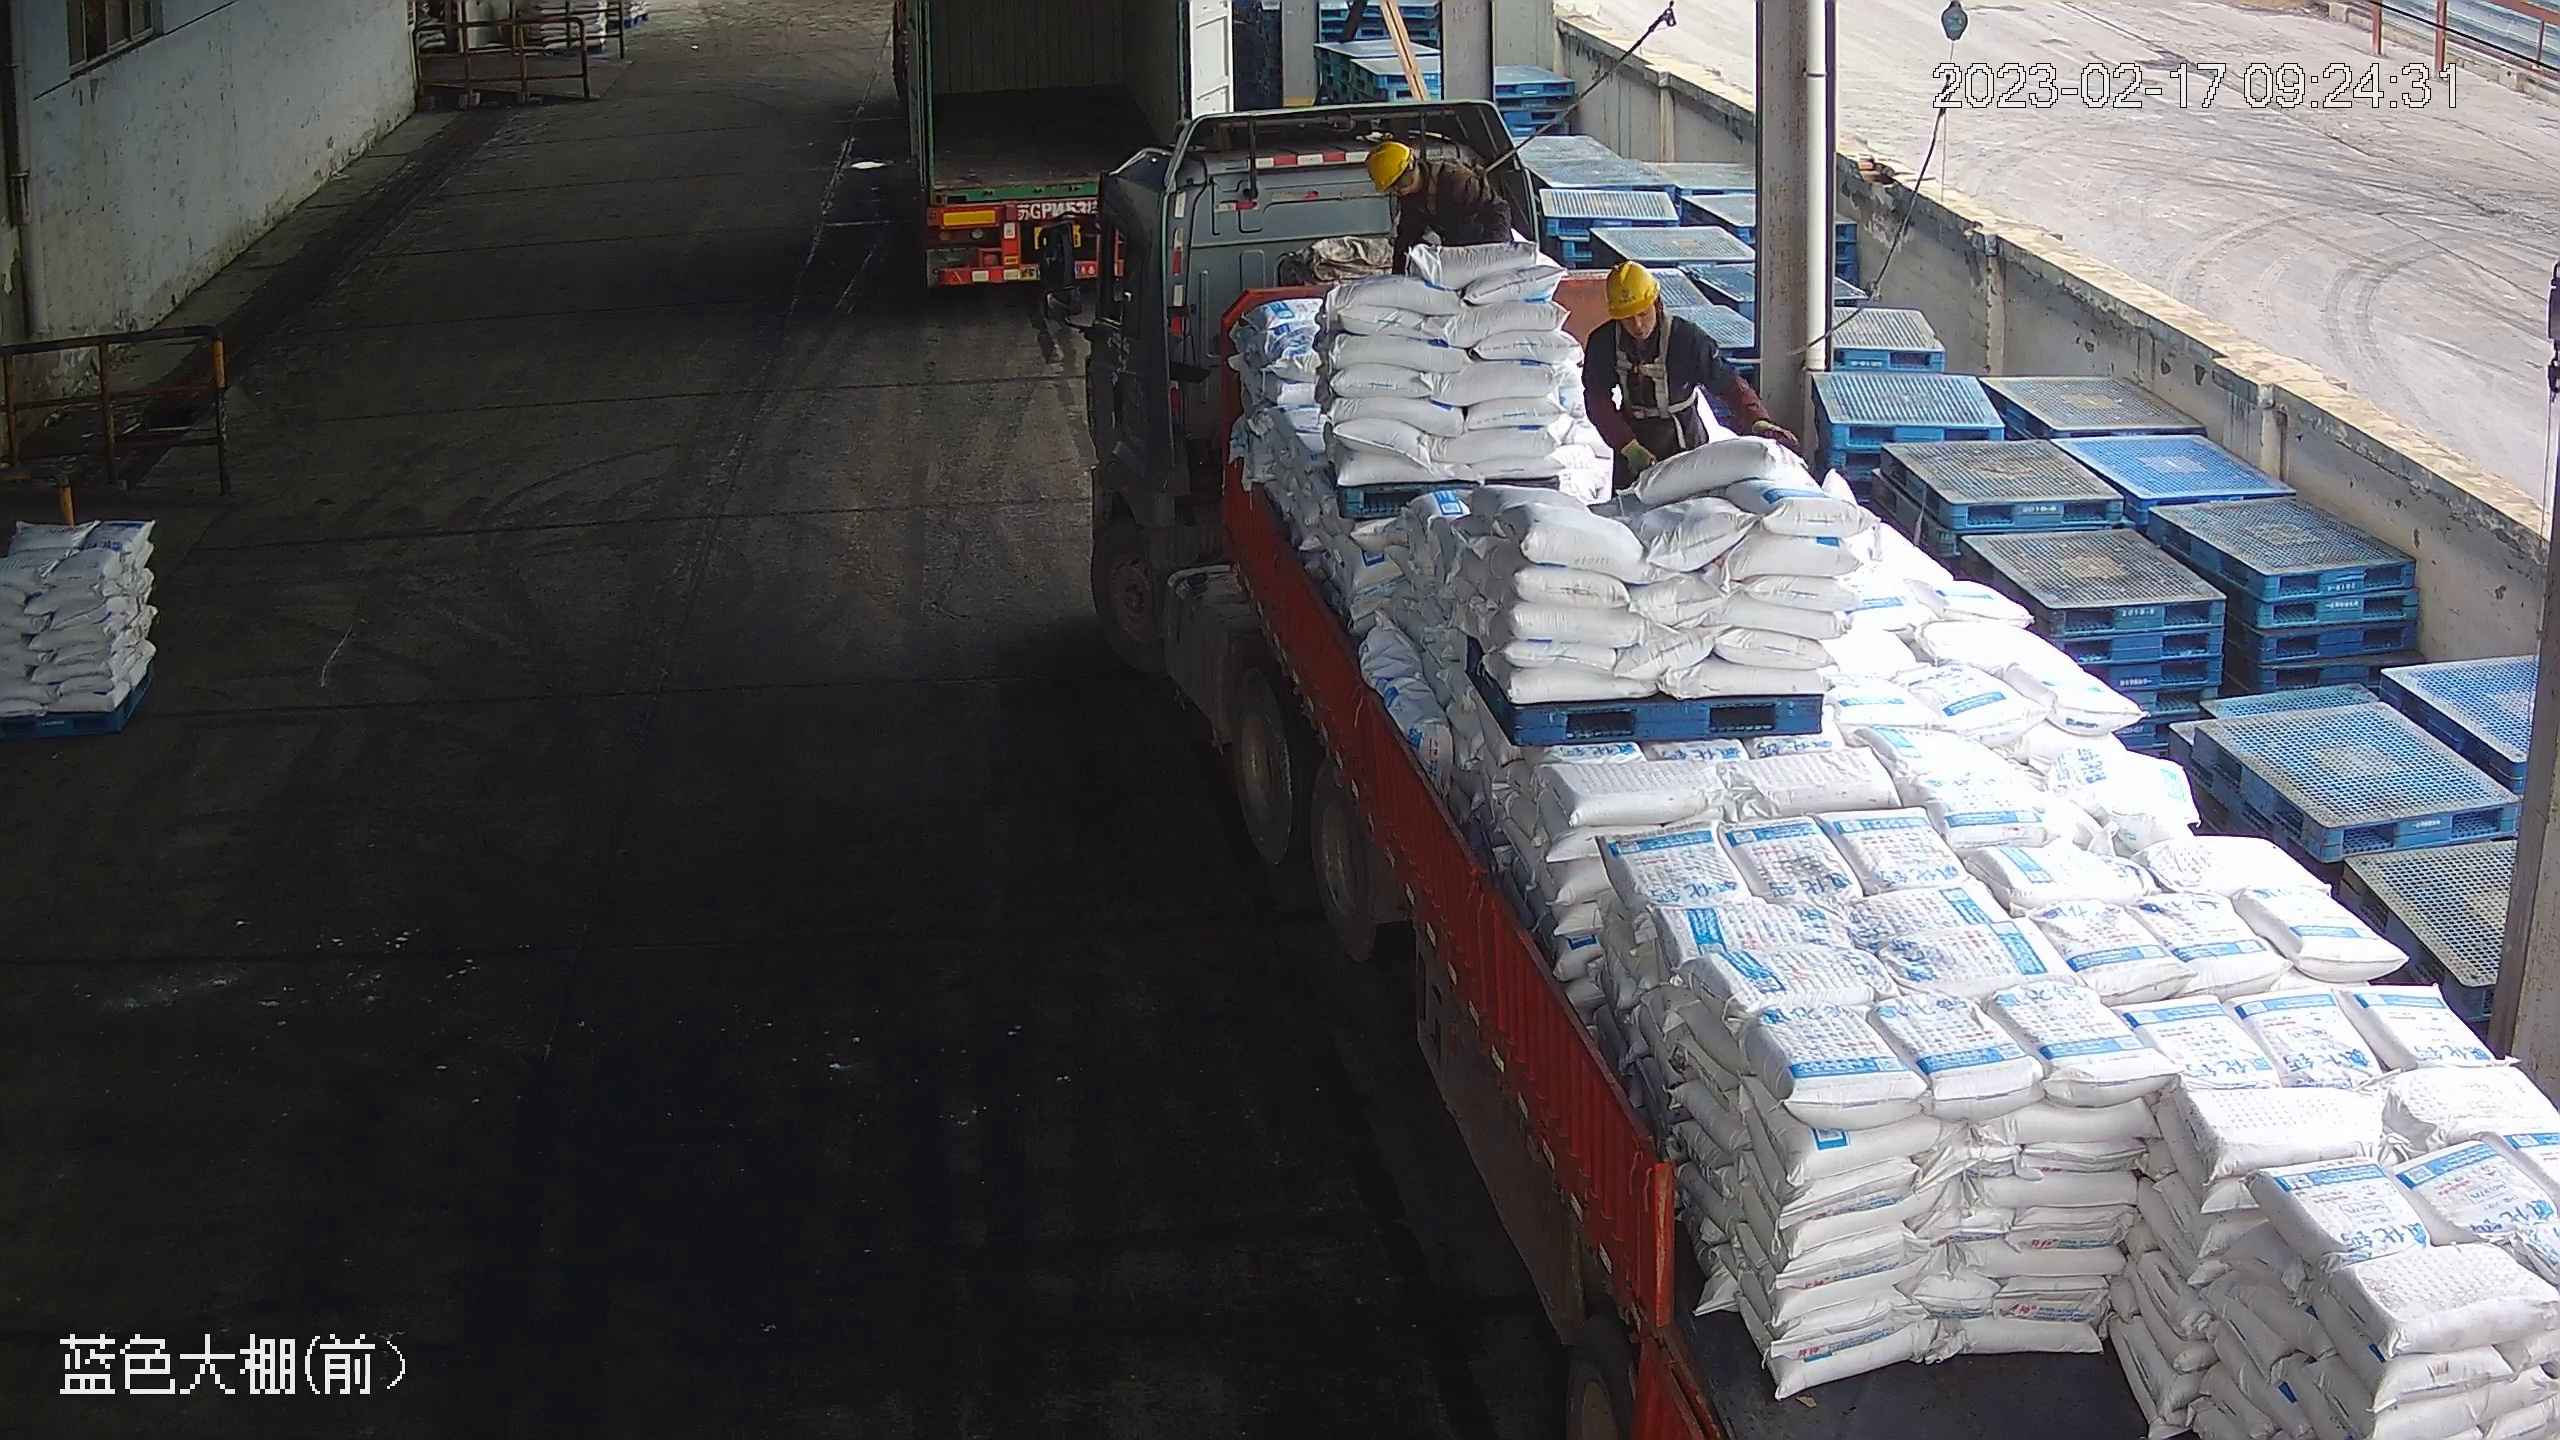belt: (1618, 320, 1690, 413), (1425, 165, 1478, 208)
head: (1586, 258, 1710, 364), (1362, 135, 1470, 221)
helmet: (1604, 259, 1665, 323), (1359, 133, 1414, 188)
people: (1578, 258, 1782, 499)
truck: (1042, 156, 2555, 1440), (883, 1, 1197, 292)
